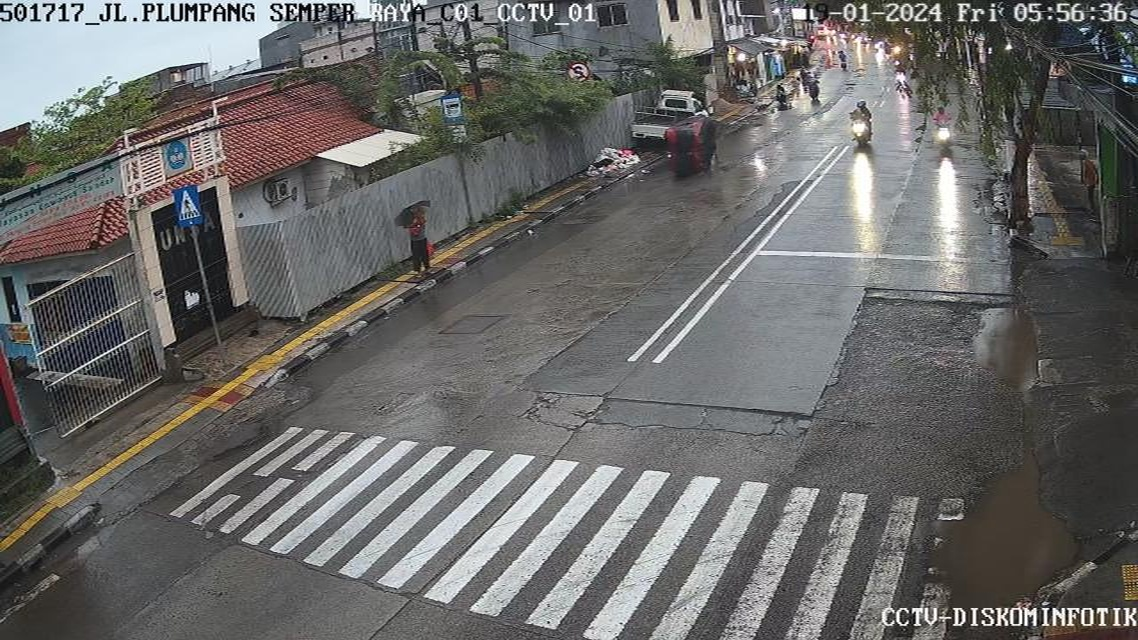Payung: (386, 200, 441, 230)
